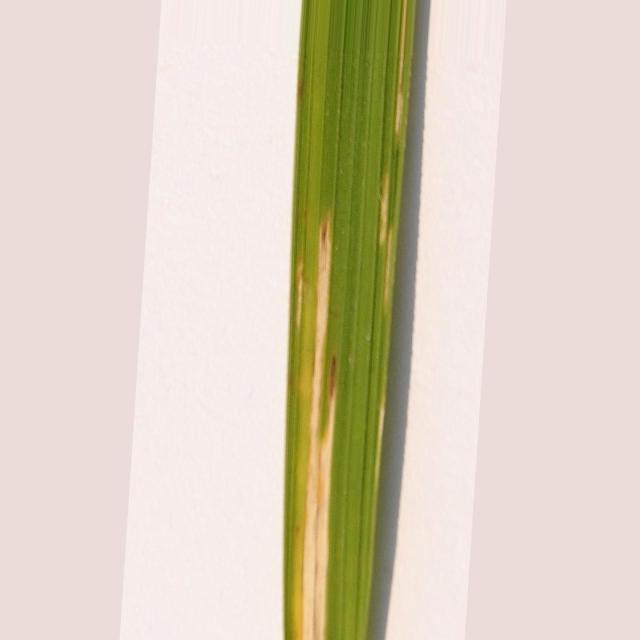Bacterial_Leaf_Blight: (301, 210, 334, 640), (316, 275, 329, 362), (394, 82, 408, 144), (378, 176, 390, 248)
